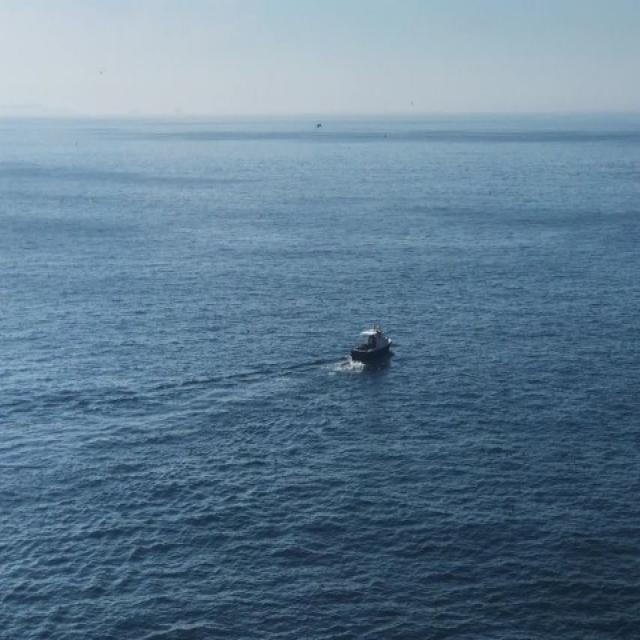houseboat: (350, 317, 396, 369)
